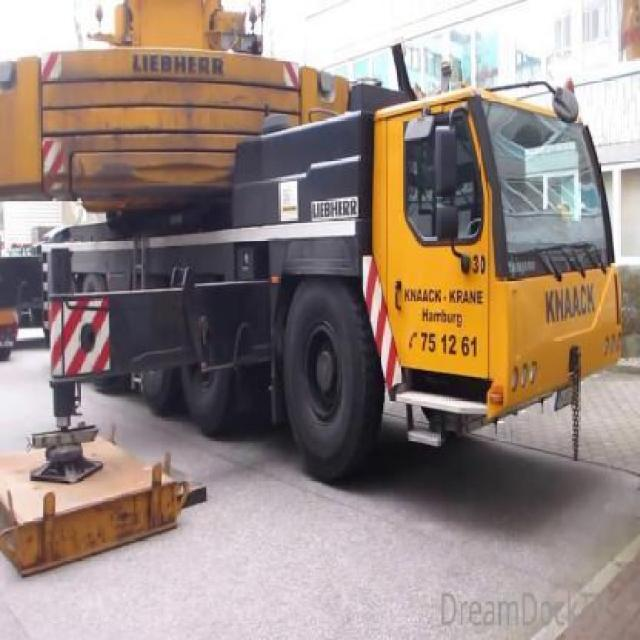Mobile Crane: (0, 0, 625, 488)
